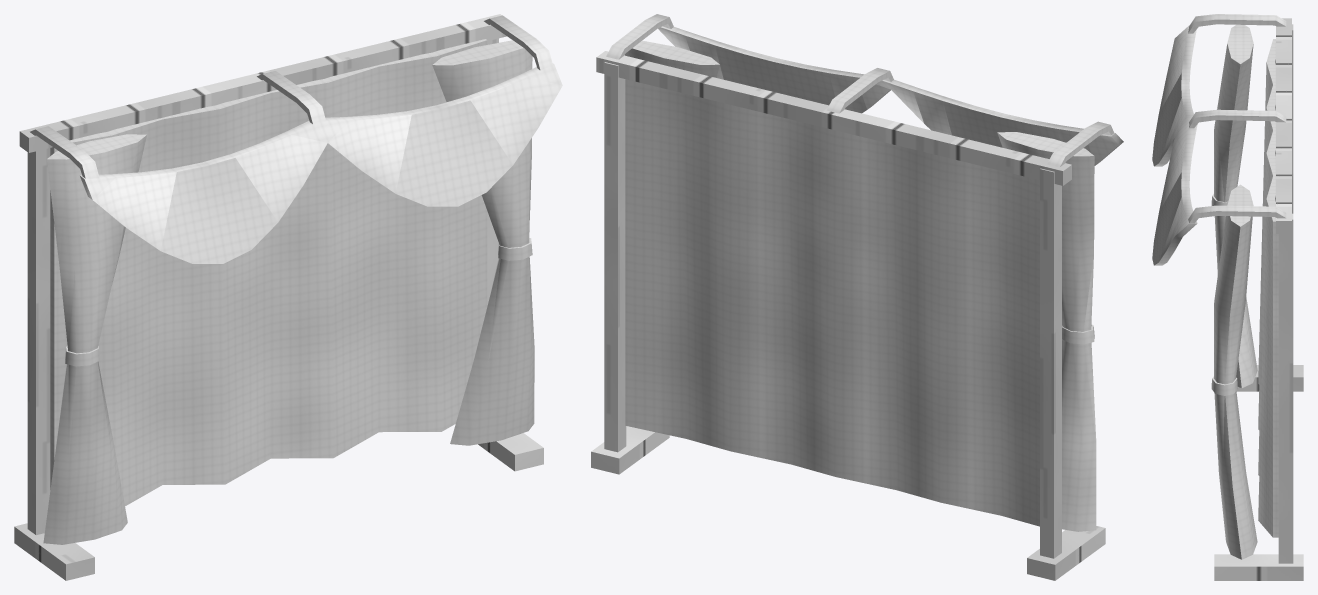
Rendered from drape.obj.
3 views of the same model, side by side, from view 1: azimuth 30°, elevation 25°; view 2: azimuth 150°, elevation 25°; view 3: azimuth 270°, elevation 25° (orthographic). The views are drawn at different scales.
Parts seen in each view (by area): view 1: source_component_005, source_component_006, source_component_007, source_component_009, source_component_004, source_component_001, source_component_000, source_component_002, source_component_013, source_component_011, source_component_012, source_component_003; view 2: source_component_005, source_component_007, source_component_006, source_component_004, source_component_003, source_component_001, source_component_000, source_component_002, source_component_009, source_component_013, source_component_012, source_component_011; view 3: source_component_009, source_component_005, source_component_006, source_component_007, source_component_003, source_component_004, source_component_002, source_component_011, source_component_012, source_component_013, source_component_000, source_component_001 (+1 smaller).
Boxes of the visible parts, x1,y1,x2,y2 form: source_component_005: (50,39,487,506); source_component_006: (79,63,562,263); source_component_007: (43,134,146,544); source_component_009: (432,40,534,445); source_component_004: (19,14,506,152); source_component_001: (27,148,50,535); source_component_000: (14,523,94,580); source_component_002: (478,433,543,471); source_component_013: (484,15,552,70); source_component_011: (30,126,99,178); source_component_012: (257,71,325,124); source_component_003: (487,38,498,305); source_component_005: (625,79,1039,526); source_component_007: (997,132,1096,531); source_component_006: (658,26,1123,165); source_component_004: (596,51,1071,185); source_component_003: (604,62,626,452); source_component_001: (1040,168,1061,558); source_component_000: (1027,526,1105,580); source_component_002: (591,426,669,474); source_component_009: (624,40,719,77); source_component_013: (606,14,673,59); source_component_012: (826,68,893,113); source_component_011: (1047,121,1114,167); source_component_009: (1214,184,1257,559); source_component_005: (1258,39,1278,537); source_component_006: (1152,25,1197,265); source_component_007: (1214,24,1257,388); source_component_003: (1278,213,1293,563); source_component_004: (1276,18,1291,233); source_component_002: (1214,554,1303,580); source_component_011: (1188,14,1286,33); source_component_012: (1189,109,1286,128); source_component_013: (1188,205,1286,223); source_component_000: (1236,365,1303,391); source_component_001: (1292,24,1293,213).
Bounding box in the file's own units: 1.86 × 1.54 × 0.575.
